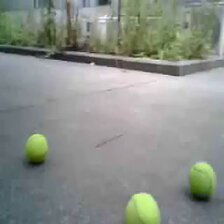tennis: (125, 191, 162, 224), (188, 162, 216, 198), (25, 132, 46, 162)
